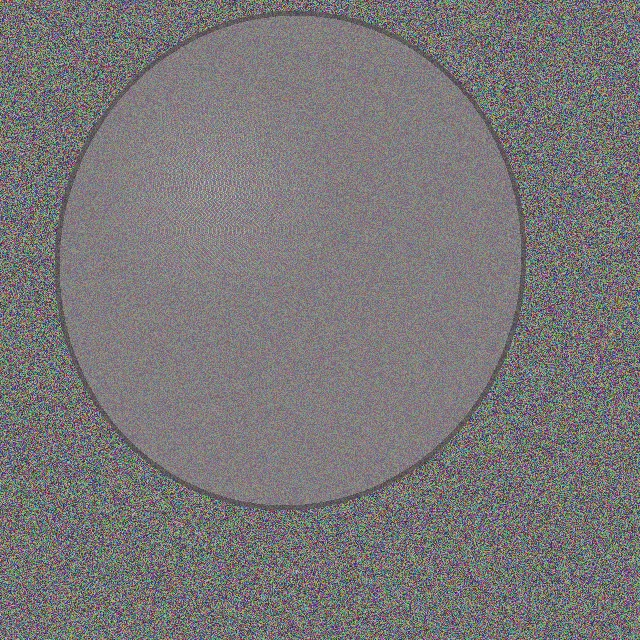lens: (57, 13, 523, 507)
